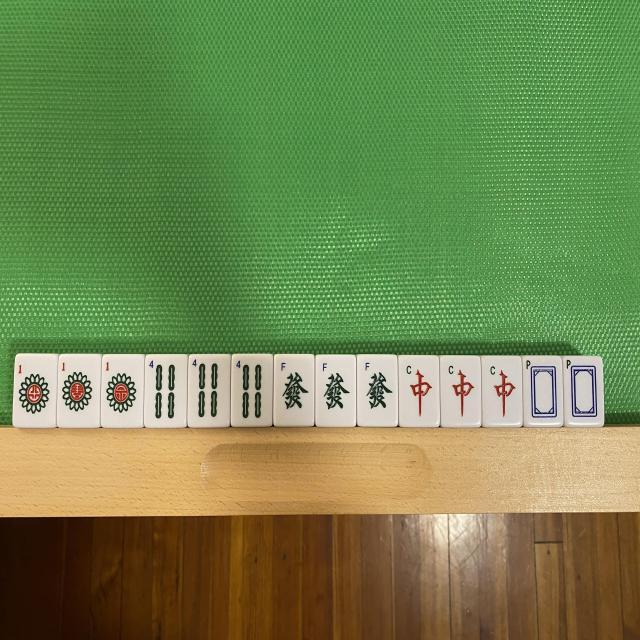hdg: (274, 354, 315, 426), (357, 356, 397, 426), (316, 356, 356, 426)
hdr: (398, 355, 439, 427), (481, 357, 522, 426), (440, 356, 480, 426)
hdw: (562, 357, 604, 425), (522, 356, 562, 426)
sb4: (231, 354, 273, 426), (146, 355, 187, 427), (188, 356, 230, 426)
sd1: (59, 354, 100, 428), (102, 356, 144, 426), (16, 355, 56, 427)
